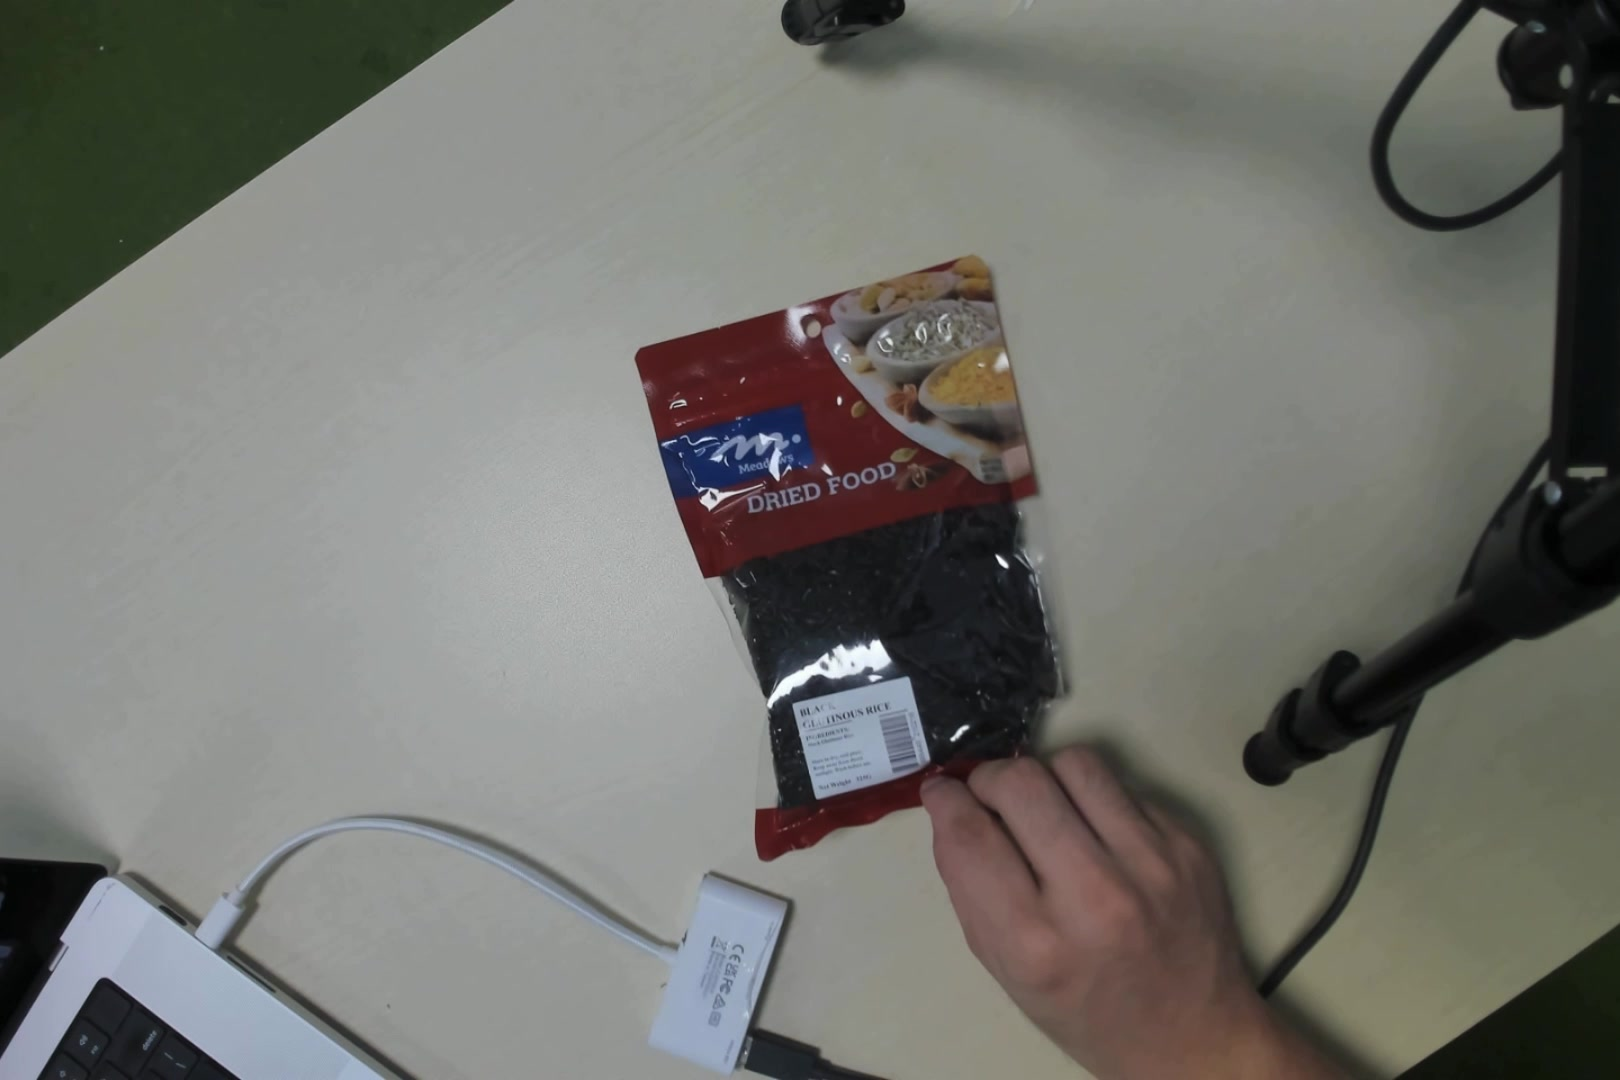OtherDriedFood_100-199g_NonHalal_NonHealthy: (686, 299, 1041, 829)
